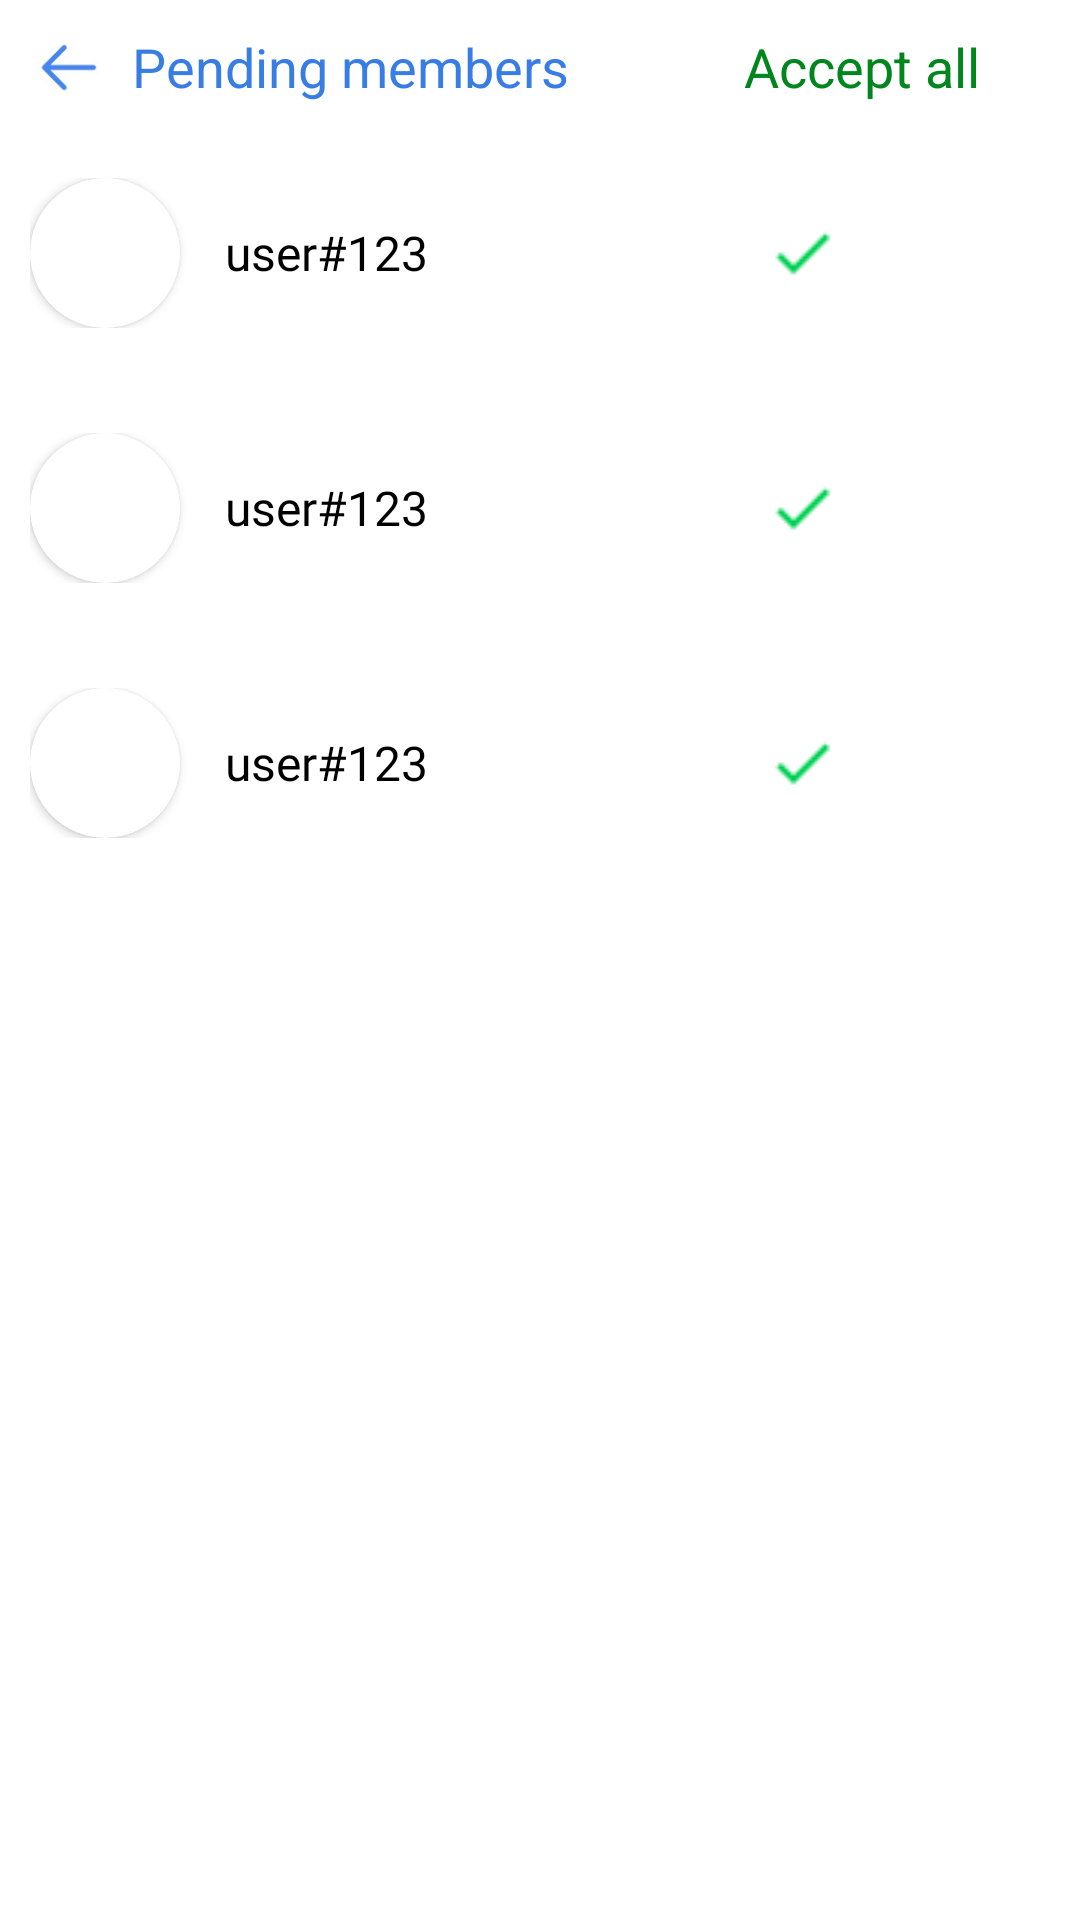

Where to tap for icons on this 1080px x 1920px app screen, as (x=x, y=y):
back: (x=69, y=67)
check: (x=802, y=253), (x=802, y=508), (x=802, y=763)
